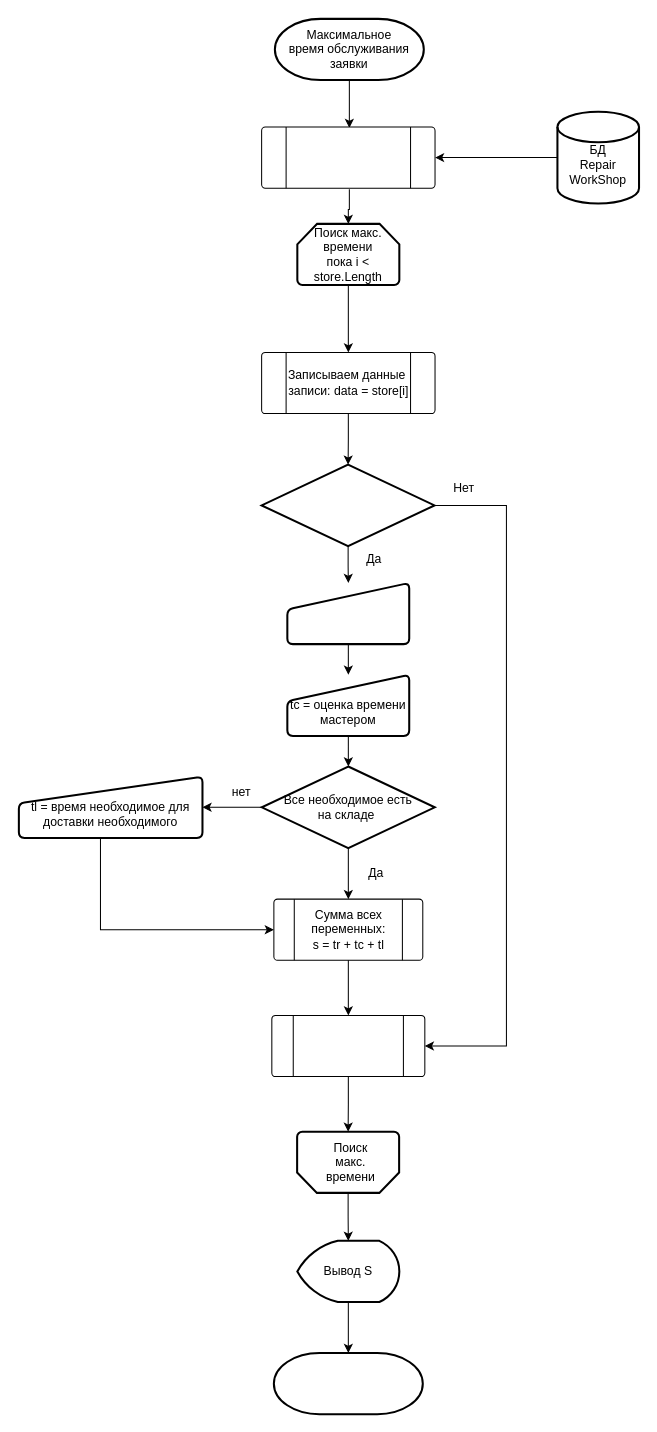
Image size: 657x1432. Some labels were removed from this diagram. Here are the shapes that lost their labels. From the top down, the centre of each, then its label:
point 348,157: Записываем данные из хранилища в переменную store
point 347,505: data.Status.Request = 3 (Выполнено)
point 348,613: tr = время на обработку заявки
point 348,1045: переход к следующему элементу i++
point 347,1383: Конец
